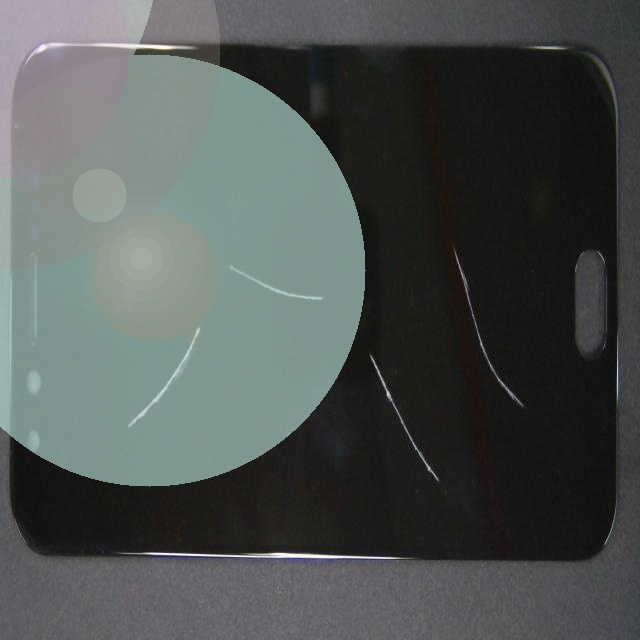scratch: (266, 311, 634, 640), (309, 300, 640, 529), (112, 186, 310, 498), (226, 170, 445, 419)
